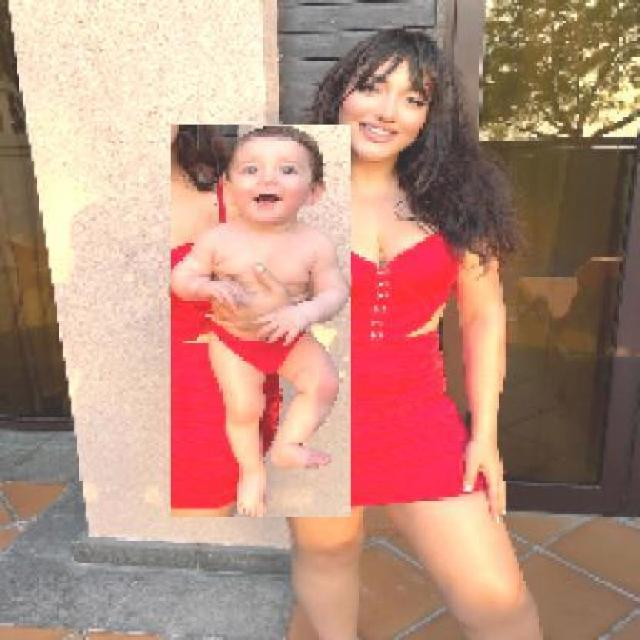child: (168, 124, 352, 518)
